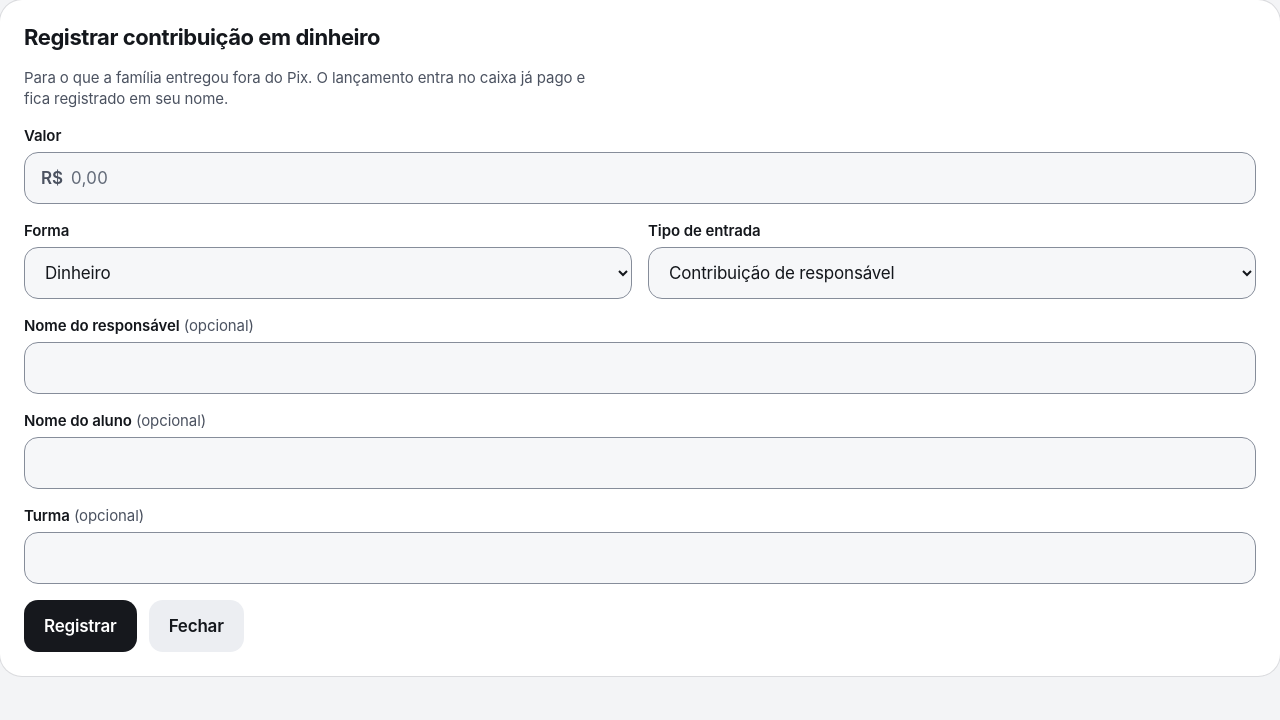
Scenario: CashContributionForm › registra com Idempotency-Key (uuid), na escola do vinculo, e avisa o painel
The width and height of the screenshot is (1280, 720).
Type "5000" into the field labelled "Valor" at x=655, y=178, box [71,153,1239,203]
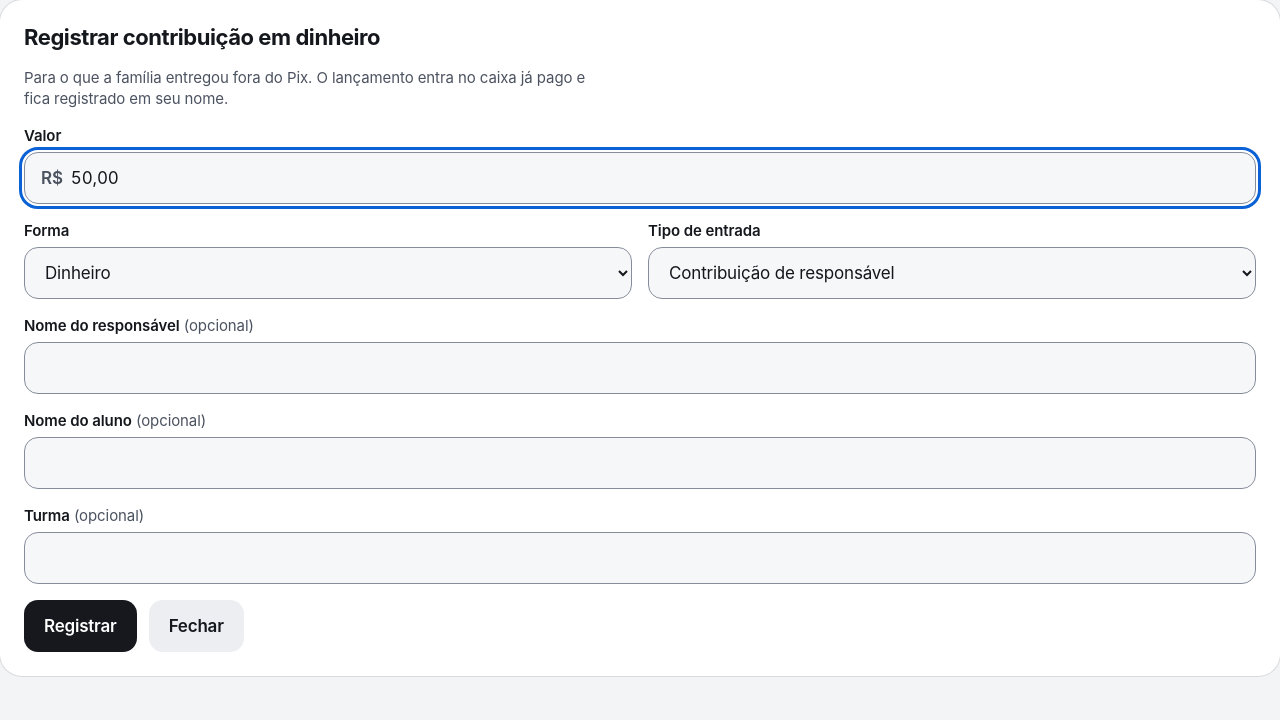
Select "Transferência" in the dropdown labelled "Forma" at x=328, y=273, box [24,247,632,299]
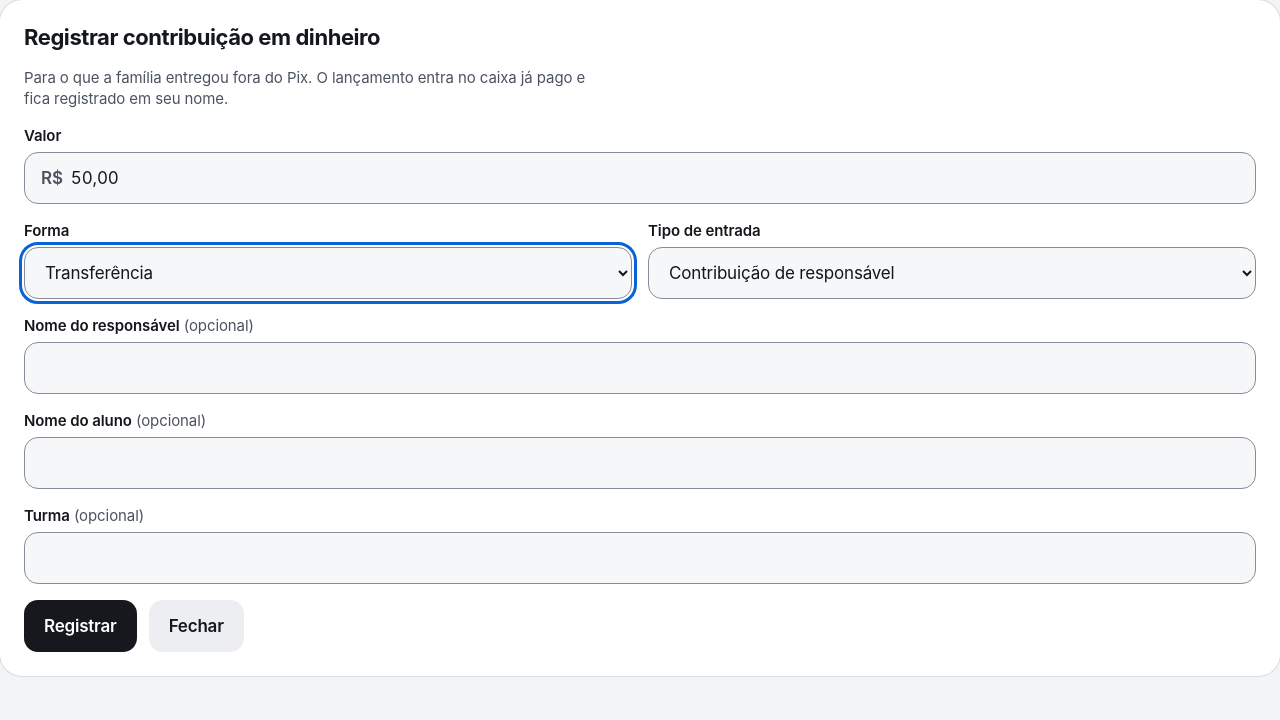
Select "Doação" in the dropdown labelled "Tipo de entrada" at x=952, y=273, box [648,247,1256,299]
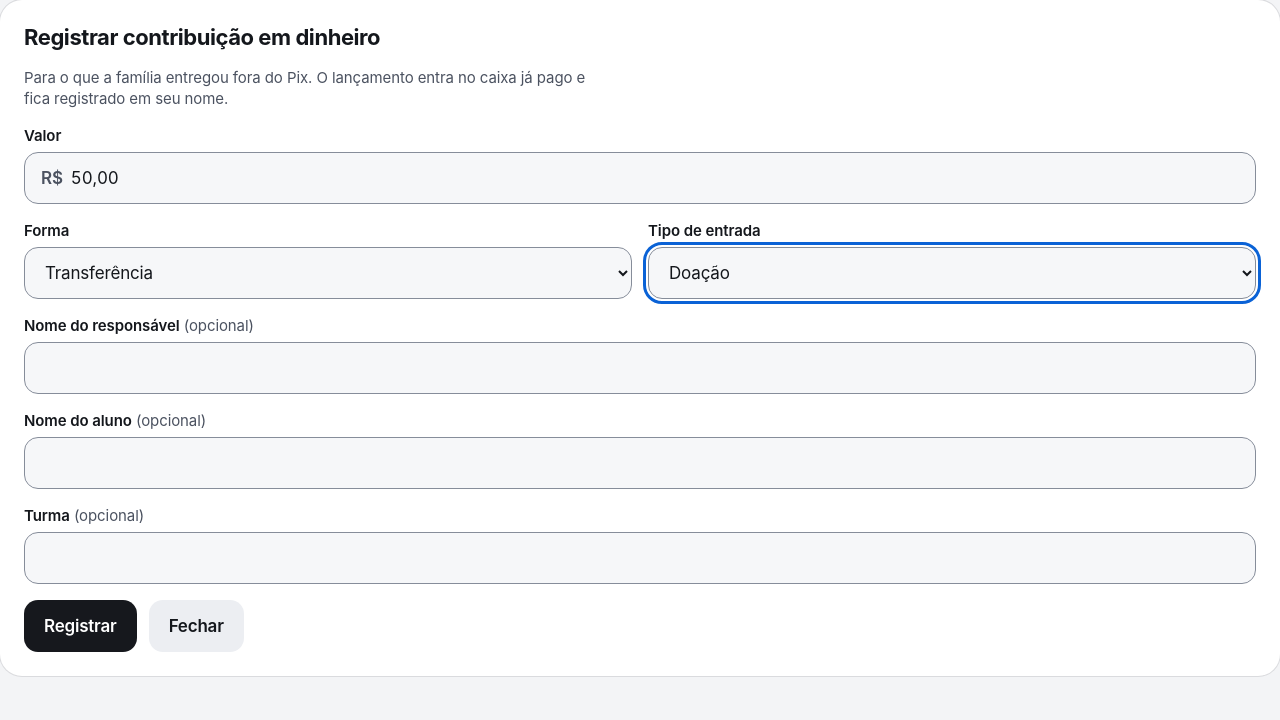
Type "João Dinheiro" into the field labelled "Nome do responsável (opcional)" at x=640, y=368, box [24,342,1256,394]
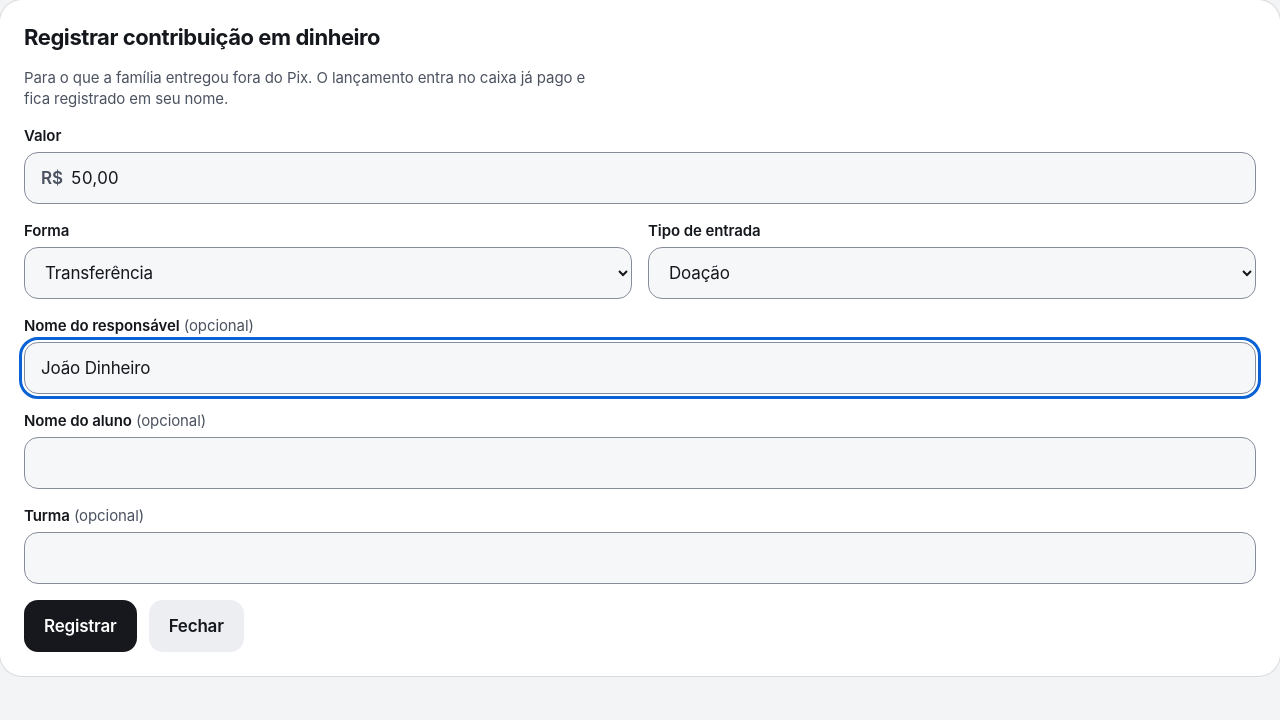
Click the button "Registrar" at x=80, y=626, box [24,600,137,652]
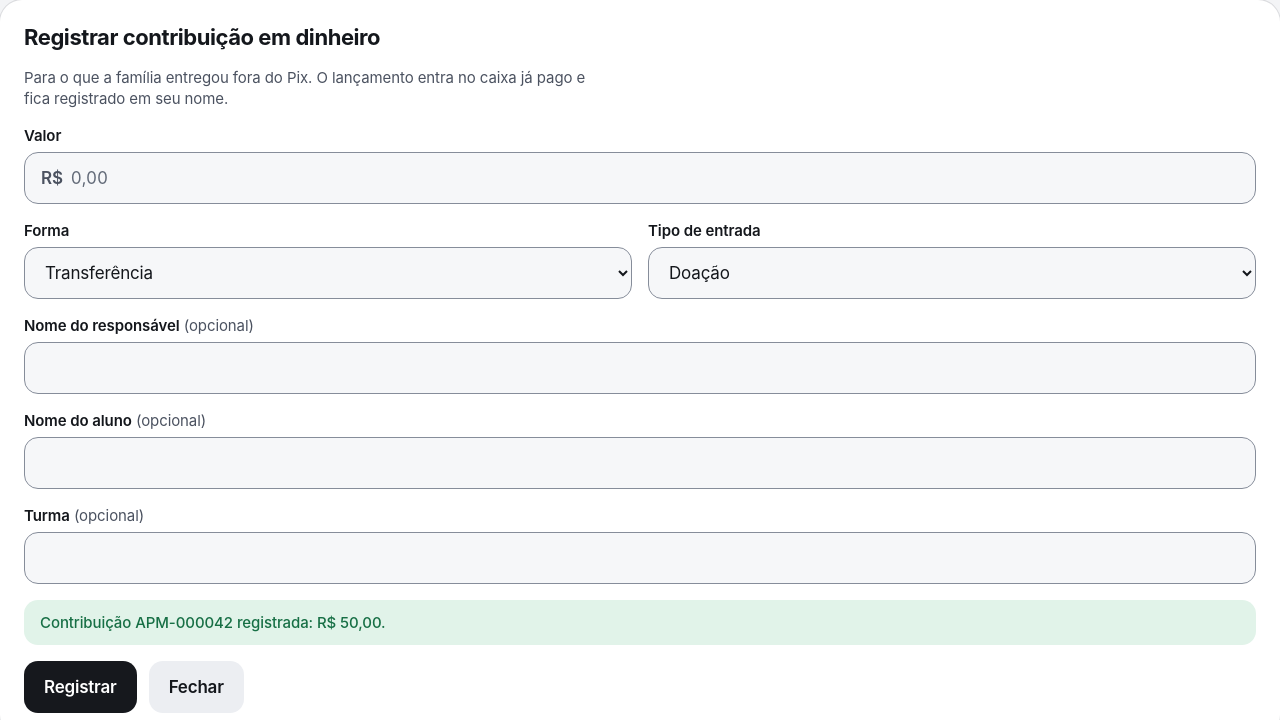
Expected: the message reads "Contribuição APM-000042 registrada: R$ 50,00.", [40,613,386,632]
Expected: the field labelled "Valor" is empty, [71,153,1239,203]
